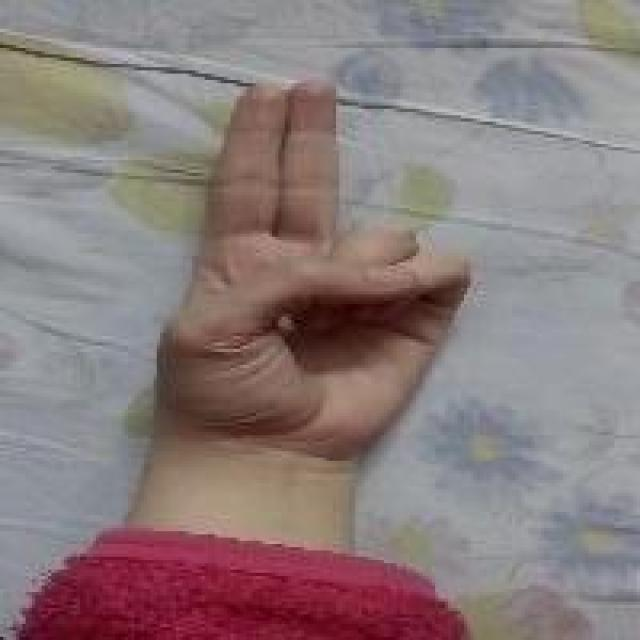U: (136, 64, 482, 451)
